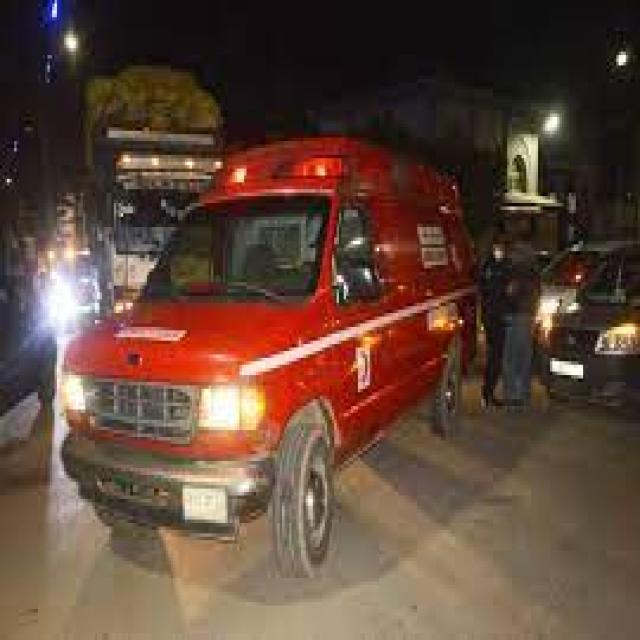ambulance: (58, 136, 478, 574)
